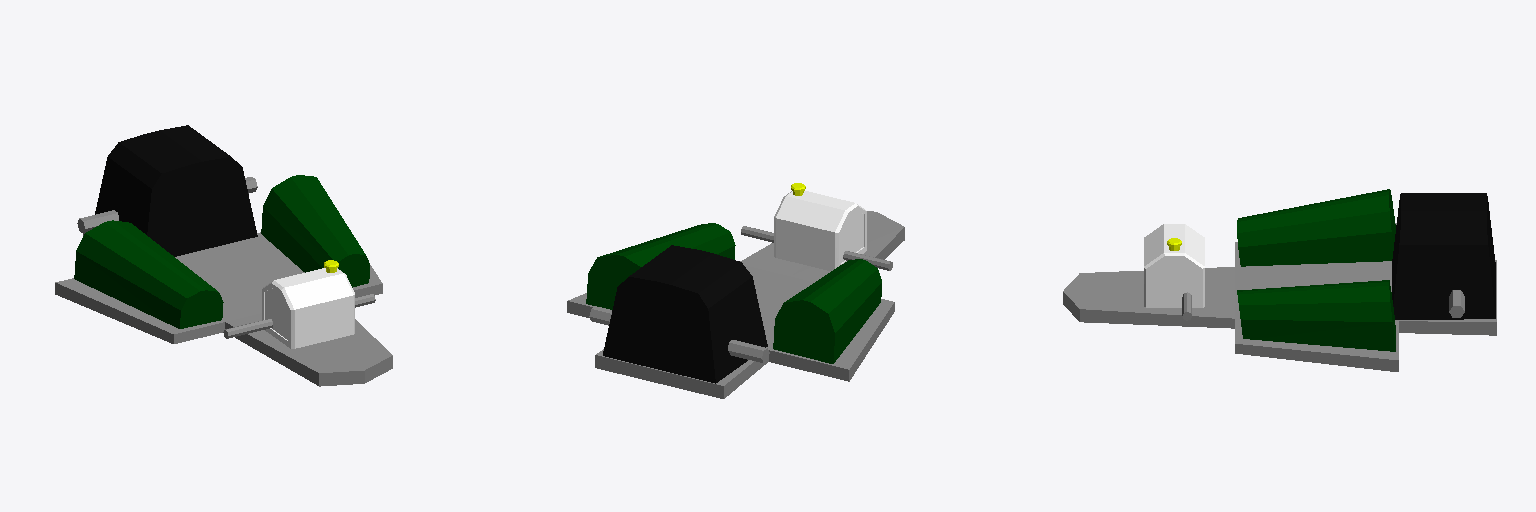
File: KartPlataform1.obj
3 views of the same model, side by side, from view 1: azimuth 30°, elevation 25°; view 2: azimuth 150°, elevation 25°; view 3: azimuth 270°, elevation 25° (orthographic).
Parts seen in each view (by area): view 1: KartPlataform1_Cylinder; view 2: KartPlataform1_Cylinder; view 3: KartPlataform1_Cylinder.
Boxes of the visible parts, <box> form: KartPlataform1_Cylinder: <box>55,125,392,386</box>; KartPlataform1_Cylinder: <box>567,183,904,398</box>; KartPlataform1_Cylinder: <box>1063,189,1496,371</box>.
Size of the model in its own units: 10.53 by 3.45 by 14.03.